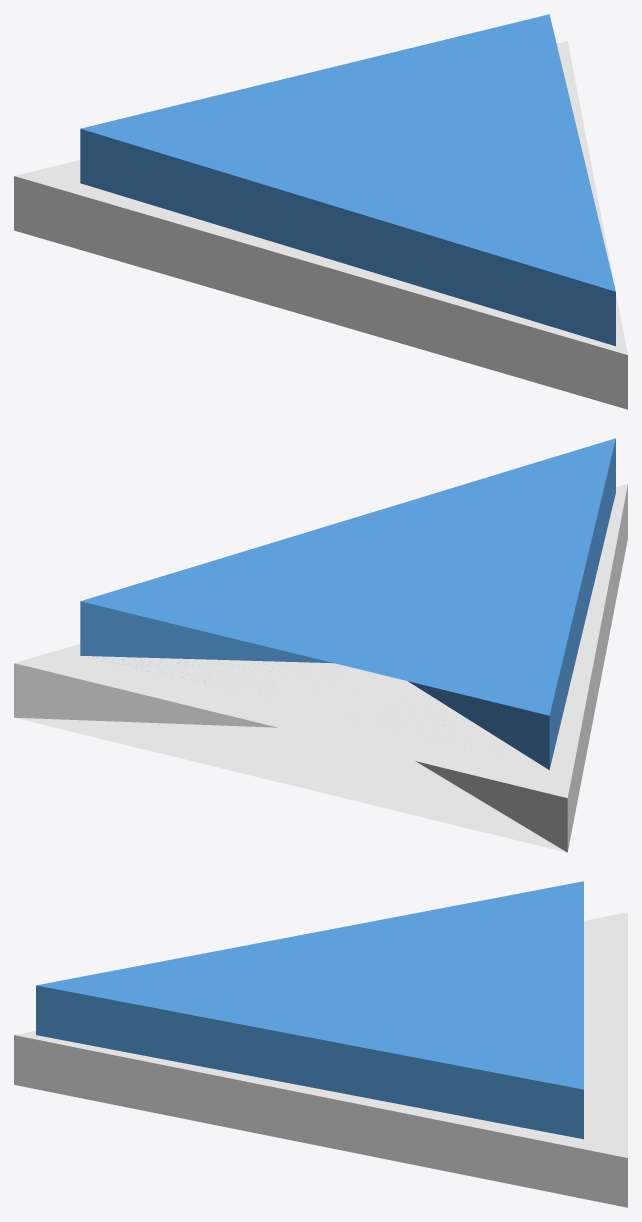
Rendered from puck.glb.
3 views of the same model, one above another, from view 1: azimuth 30°, elevation 25°; view 2: azimuth 150°, elevation 25°; view 3: azimuth 270°, elevation 25° (orthographic). The views are drawn at different scales.
Bounding box in the file's own units: 1.06 × 0.2 × 1.12.
